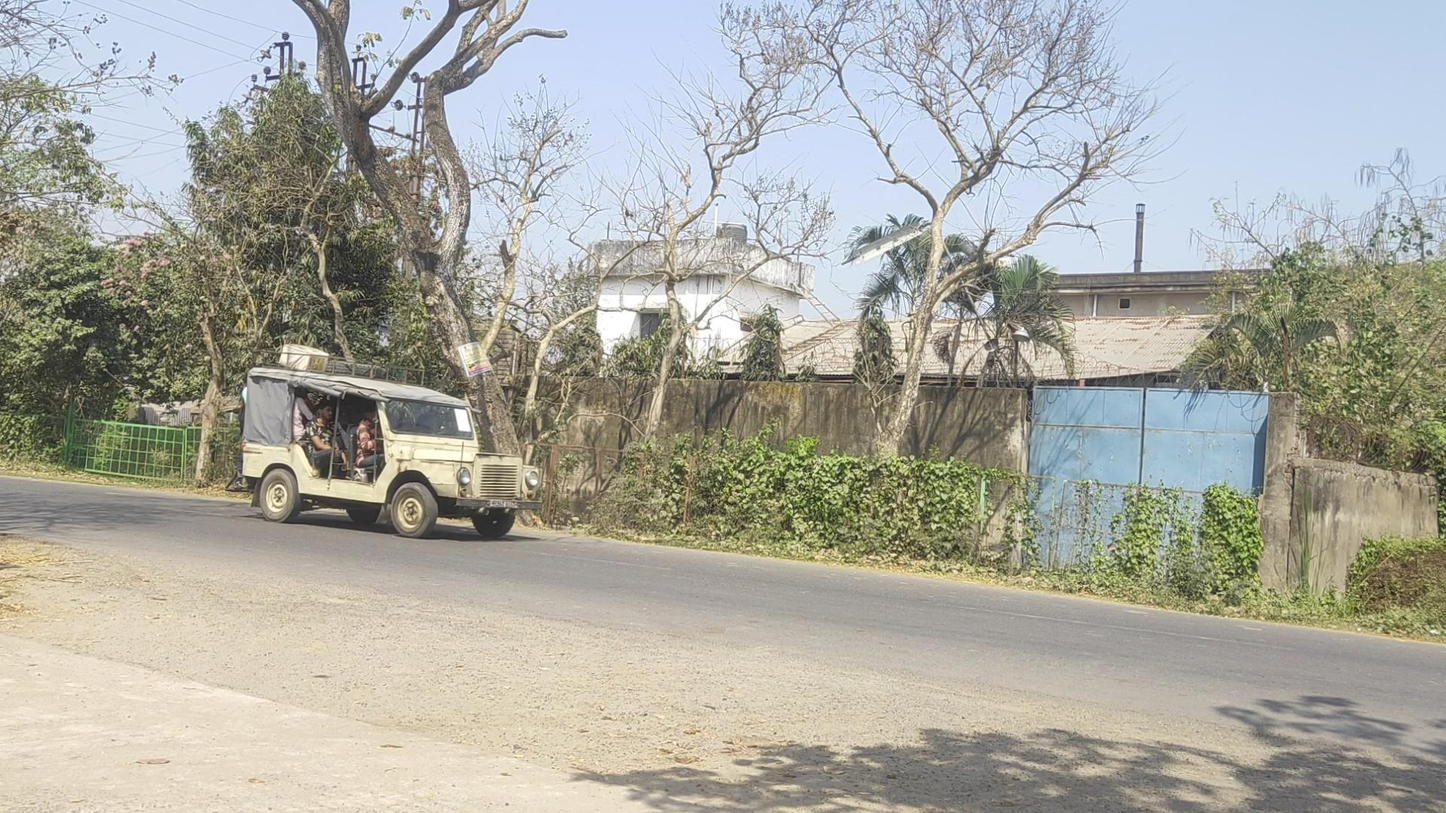car: (227, 343, 544, 540)
